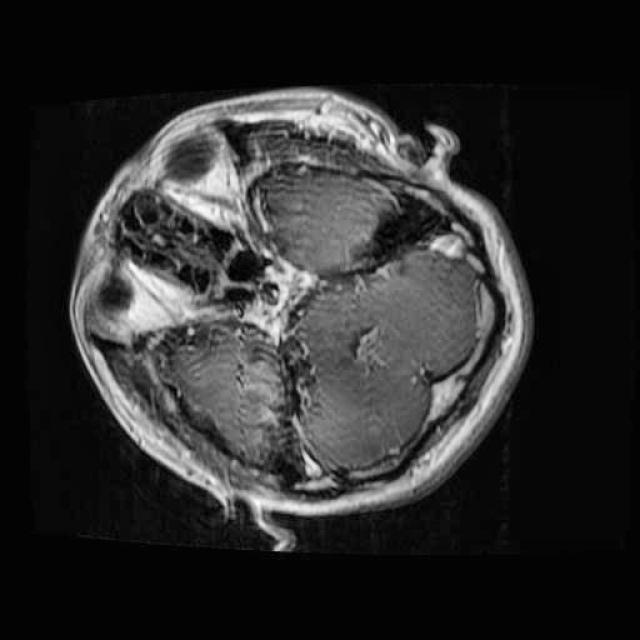Non-Tumor: (253, 275, 289, 312)
